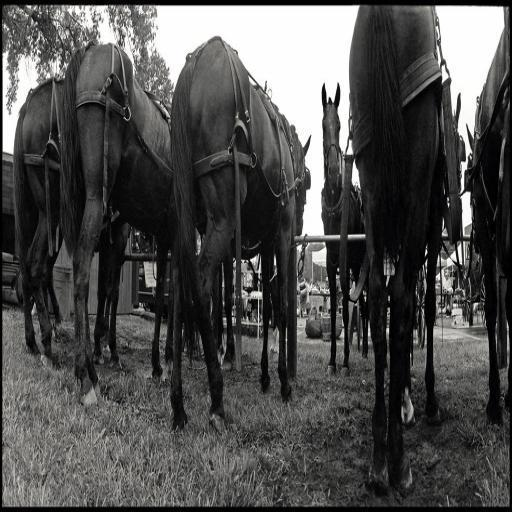horse: (171, 31, 312, 437), (54, 34, 190, 412), (348, 0, 446, 487), (10, 72, 86, 356), (468, 13, 512, 435), (323, 76, 378, 382)
